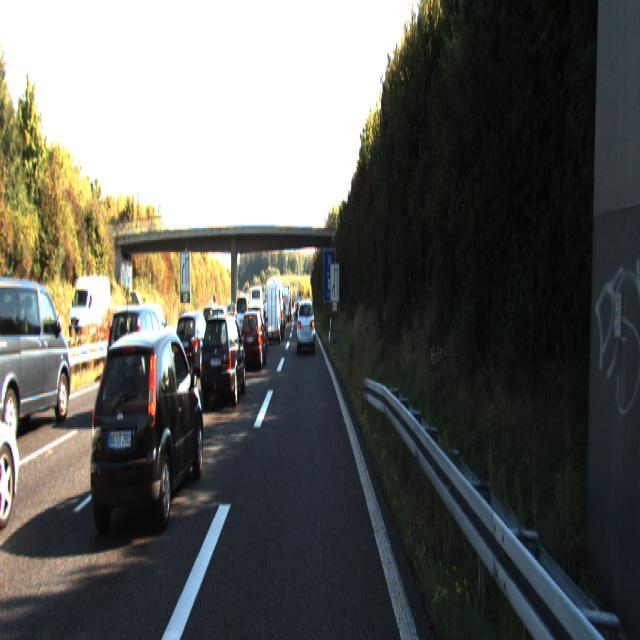Car: (87, 324, 206, 542), (0, 272, 75, 451), (104, 301, 171, 422), (0, 355, 29, 532), (198, 311, 246, 409), (238, 310, 266, 371), (265, 285, 282, 348), (296, 296, 315, 352)
